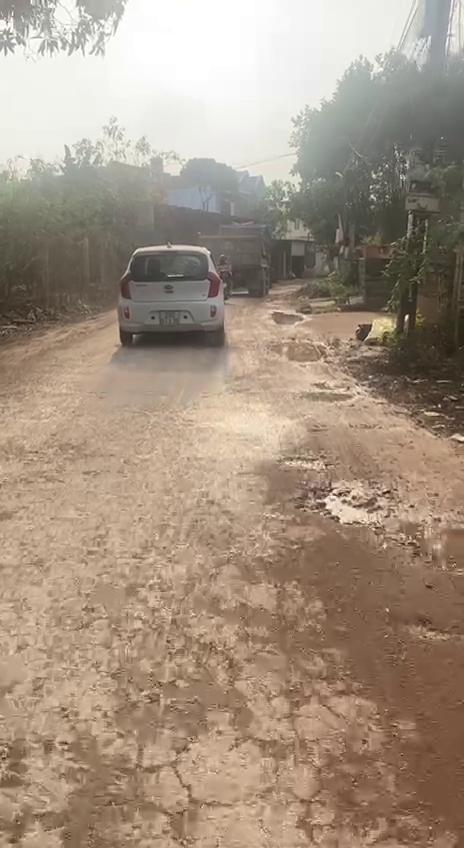pothole: (294, 484, 464, 574), (266, 337, 326, 365), (298, 378, 354, 406), (270, 308, 309, 330)
